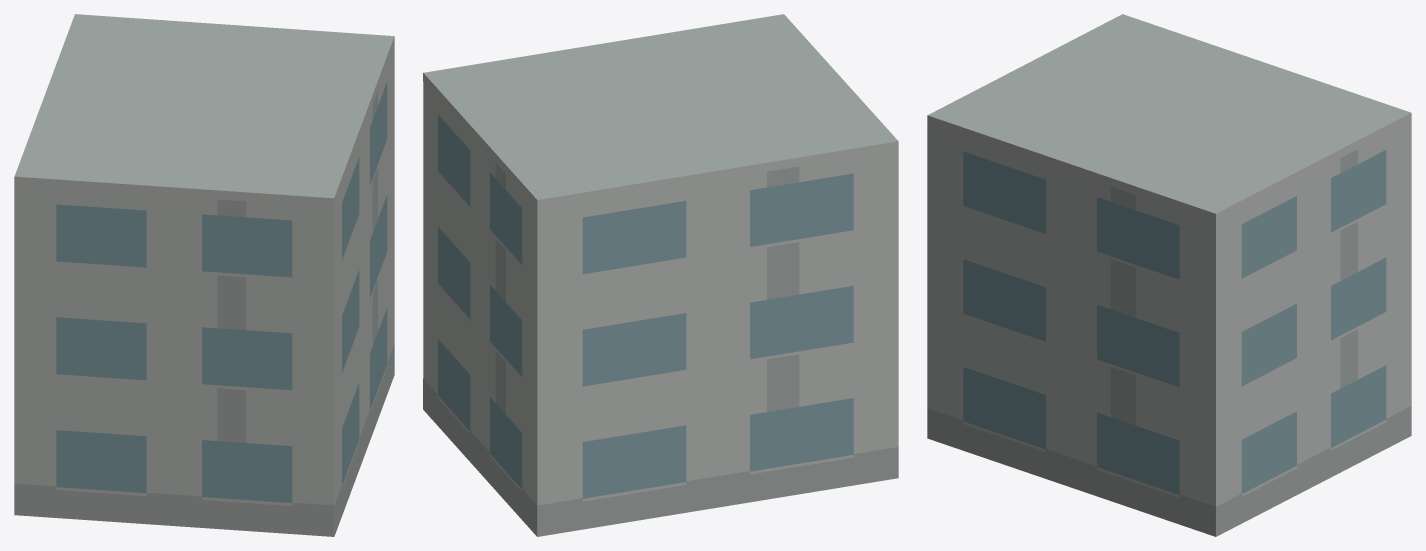
The model's file is residential-6f5f691a-4848-4c48-ae1d-92d573b34704.glb.
The picture shows the model from 3 angles, left to right: view 1: azimuth 30°, elevation 25°; view 2: azimuth 150°, elevation 25°; view 3: azimuth 270°, elevation 25°; orthographic projection. The views are drawn at different scales.
Visible parts, largest first — view 1: residential-6f5f691a-4848-4c48-ae1d-92d573b34704.tmp; view 2: residential-6f5f691a-4848-4c48-ae1d-92d573b34704.tmp; view 3: residential-6f5f691a-4848-4c48-ae1d-92d573b34704.tmp.
Boxes of the visible parts, x1,y1,x2,y2 form: residential-6f5f691a-4848-4c48-ae1d-92d573b34704.tmp: (14,14,394,536); residential-6f5f691a-4848-4c48-ae1d-92d573b34704.tmp: (423,14,898,536); residential-6f5f691a-4848-4c48-ae1d-92d573b34704.tmp: (927,14,1411,536).
Size of the model in its own units: 12.14 by 9.15 by 12.43.
